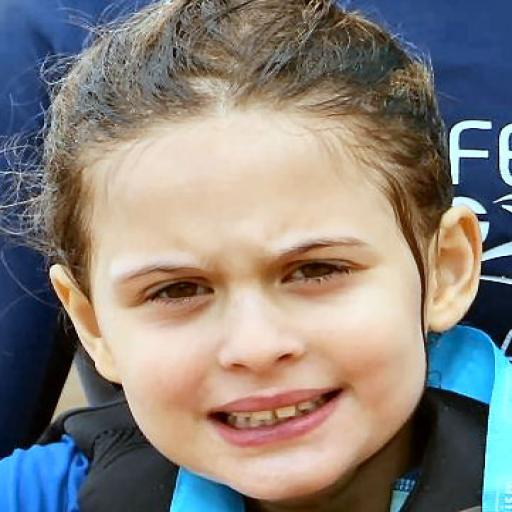Autism: (27, 12, 500, 498)
